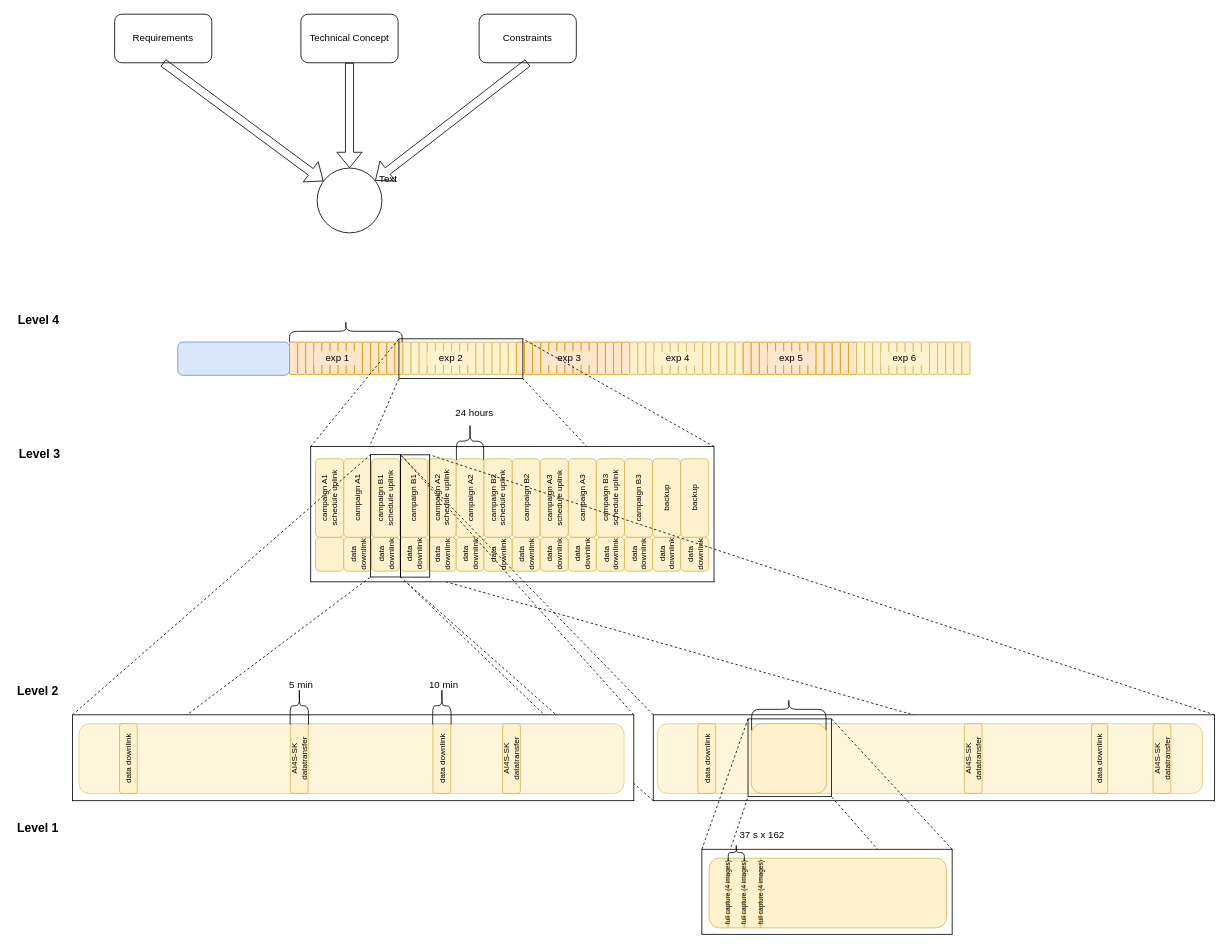
The diagram is 1230 pixels wide and 949 high, and some of its shapes have lost their labels. Here are the shapes that lost their labels. From the top down, the centre of each, then its label:
the point at 349,200: Project
the point at 345,331: 14 days
the point at 233,358: commissioning
the point at 788,714: 100 min
the point at 788,758: campaign incl. datatransfer
